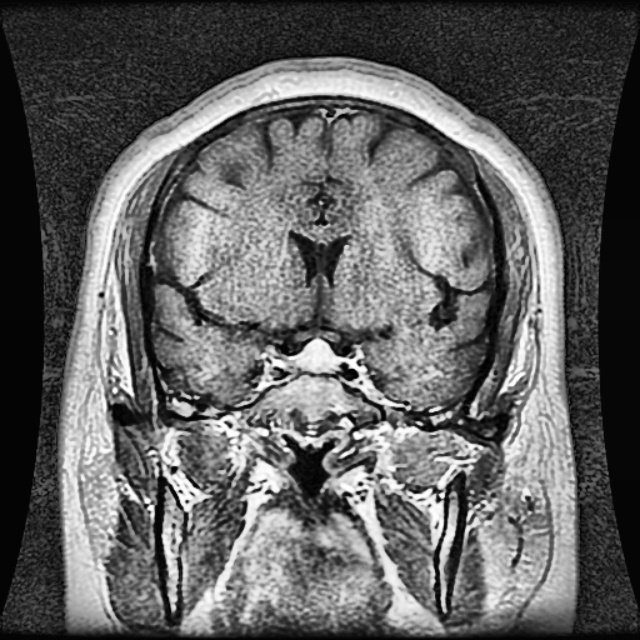Pituitary: (288, 339, 338, 373)
